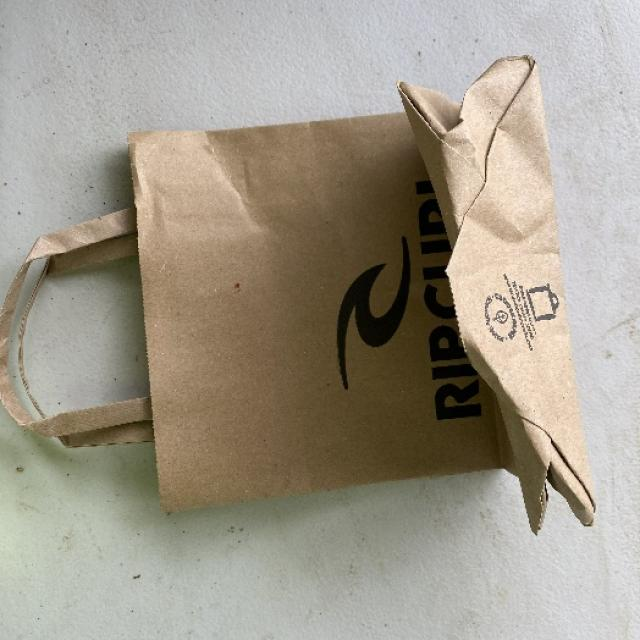paper: (2, 51, 596, 534)
